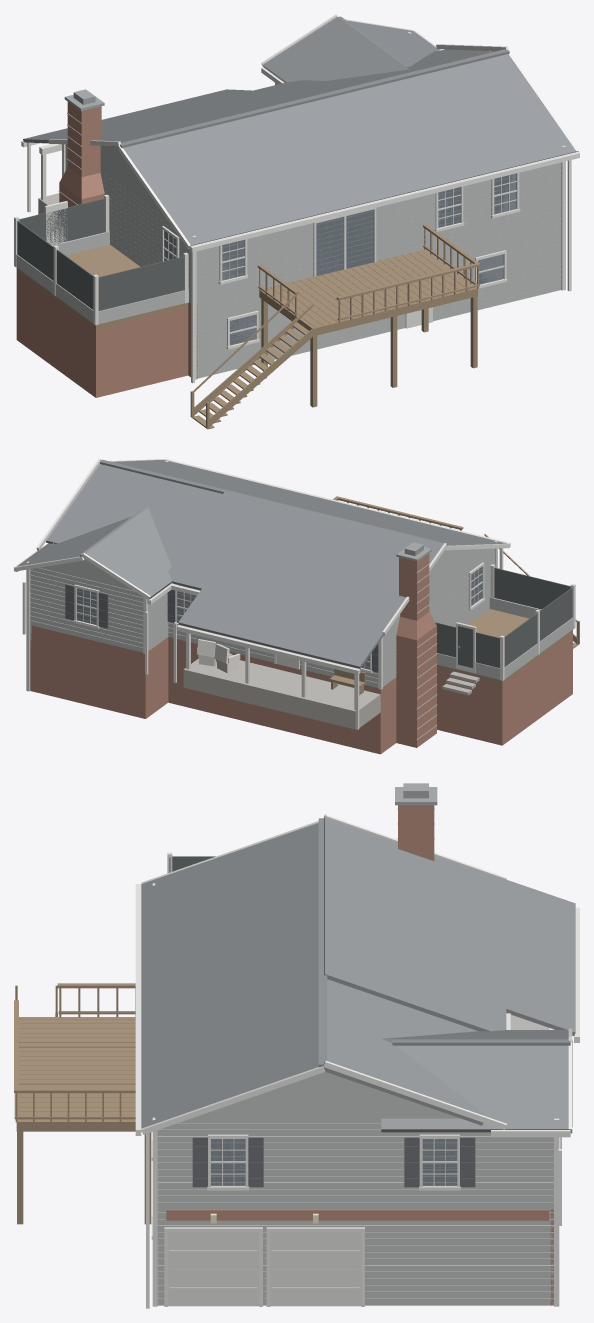
The model's file is KylesHouse.fbx.
The picture shows the model from 3 angles, top to bottom: view 1: azimuth 30°, elevation 25°; view 2: azimuth 150°, elevation 25°; view 3: azimuth 270°, elevation 25°; orthographic projection. The views are drawn at different scales.
Parts seen in each view (by area): view 1: House__roof, House__siding, House__deck, House__brick, House__trimw, House__screen, House__glass, House__gutter, House__deckdark, House__metal; view 2: House__roof, House__brick, House__siding, House__concrete, House__trimw, House__screen, House__gutter, House__deck, House__glass, House__shutter, House__wicker, House__metal; view 3: House__roof, House__siding, House__deck, House__garage, House__trimw, House__brick, House__gutter, House__shutter, House__glass, House__deckdark, House__metal.
Part boxes in pixels (<box>): House__roof: <box>23,16,577,247</box>; House__siding: <box>16,51,561,378</box>; House__deck: <box>16,224,480,429</box>; House__brick: <box>16,102,197,397</box>; House__trimw: <box>14,14,578,380</box>; House__screen: <box>17,198,184,310</box>; House__glass: <box>164,173,516,345</box>; House__gutter: <box>21,30,579,383</box>; House__deckdark: <box>270,251,469,327</box>; House__metal: <box>64,89,104,111</box>; House__roof: <box>17,459,506,668</box>; House__brick: <box>30,553,572,754</box>; House__siding: <box>30,542,573,687</box>; House__concrete: <box>183,563,479,739</box>; House__trimw: <box>15,458,575,709</box>; House__screen: <box>435,568,572,667</box>; House__gutter: <box>14,458,510,729</box>; House__deck: <box>329,496,579,695</box>; House__glass: <box>76,567,482,669</box>; House__shutter: <box>65,584,378,672</box>; House__wicker: <box>197,639,240,673</box>; House__metal: <box>396,542,459,648</box>; House__roof: <box>141,818,575,1132</box>; House__siding: <box>157,1072,553,1305</box>; House__deck: <box>14,983,151,1224</box>; House__garage: <box>168,1232,361,1306</box>; House__trimw: <box>141,814,572,1306</box>; House__brick: <box>166,805,553,1305</box>; House__gutter: <box>135,884,579,1308</box>; House__shutter: <box>192,1137,475,1187</box>; House__glass: <box>211,1139,457,1186</box>; House__deckdark: <box>18,1019,135,1111</box>; House__metal: <box>395,783,437,805</box>.
Bounding box in the file's own units: 19.53 × 8.62 × 15.51.
